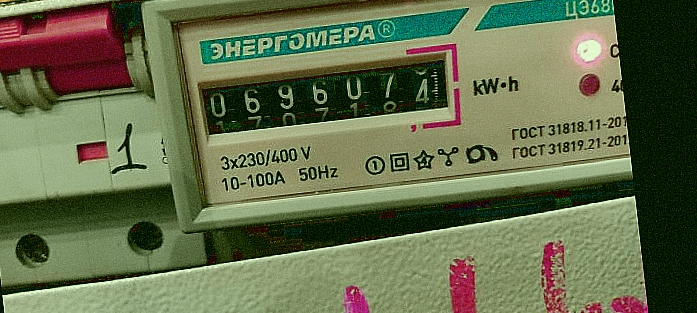0: (206, 88, 228, 119), (341, 71, 363, 100)
4: (410, 76, 431, 106)
6: (309, 75, 330, 105), (240, 85, 261, 114)
7: (376, 68, 398, 99)
9: (274, 81, 295, 111)
screen: (183, 38, 470, 156)
